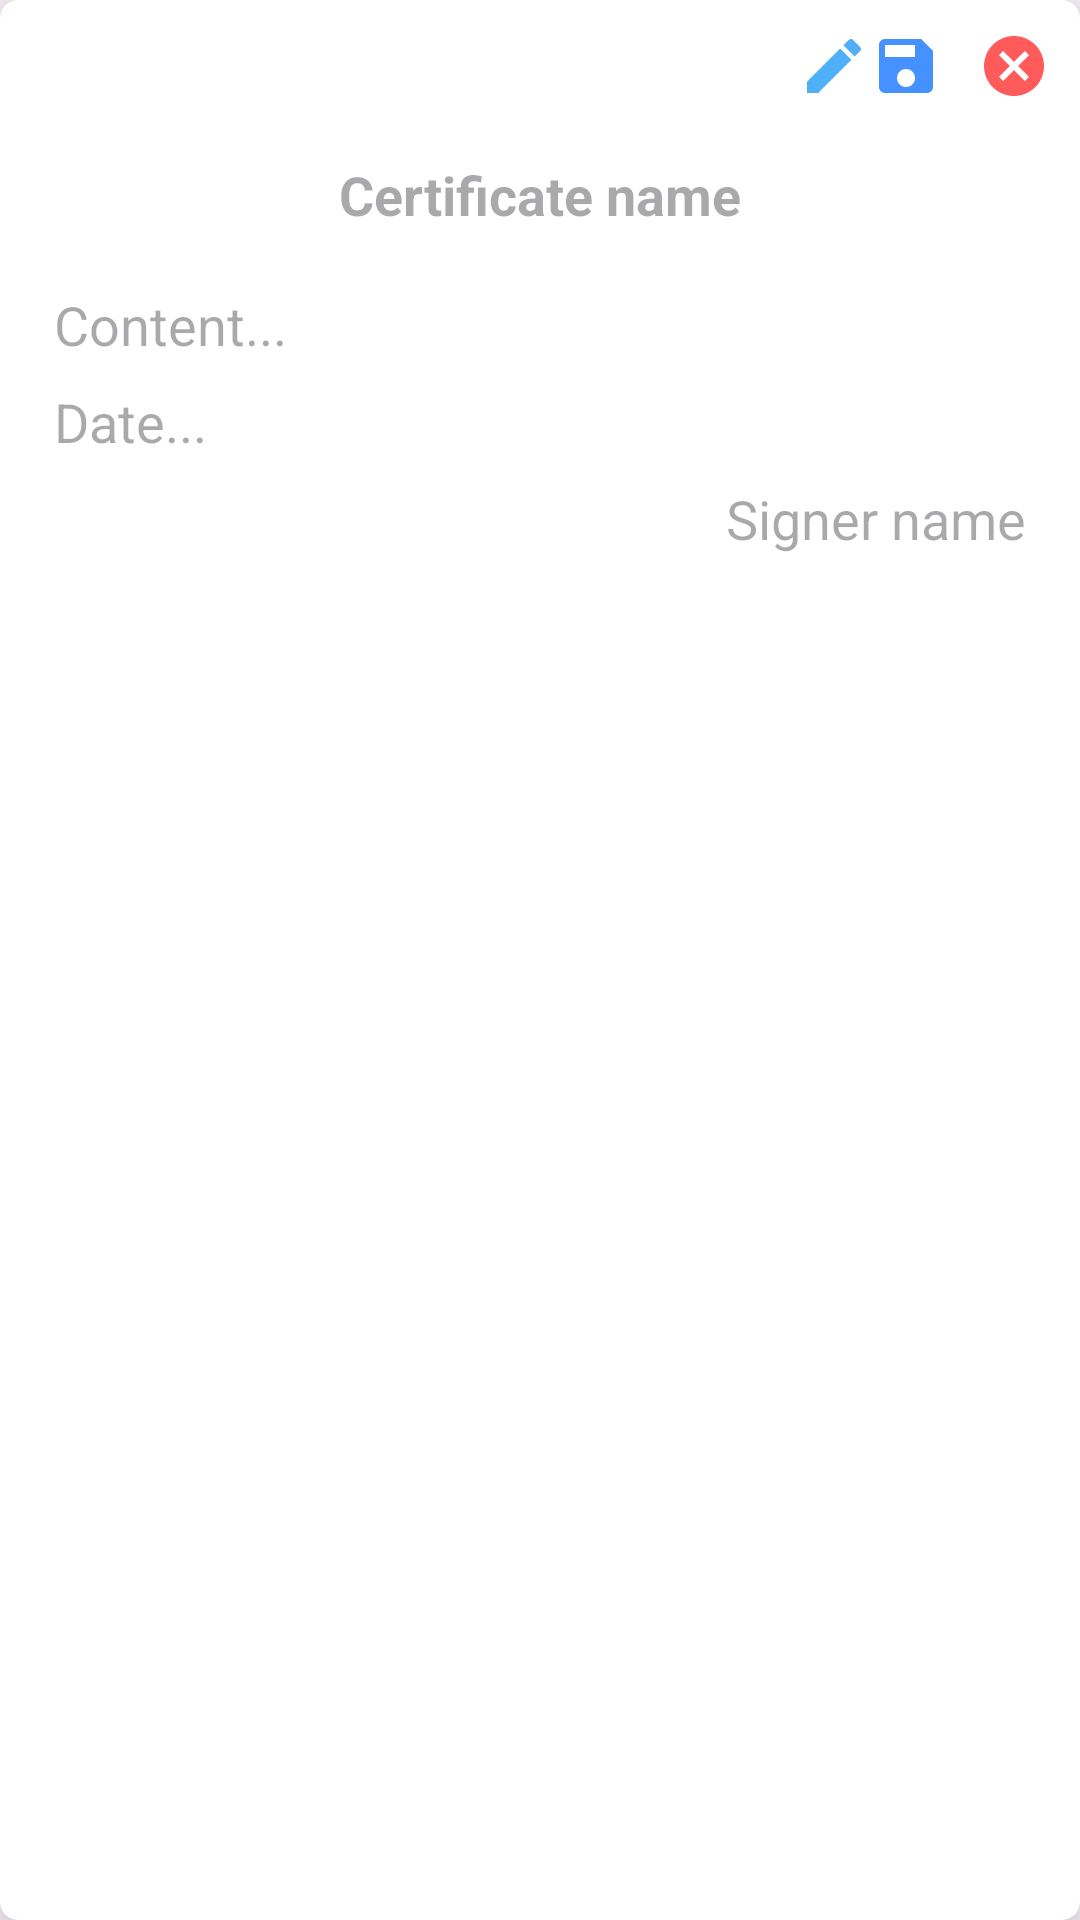

Named icons in this screenshot (1080 x 1920) and their bounding boxes, (x1, y1, x2, y2):
remove: (984, 36, 1044, 96)
save: (879, 39, 933, 93)
